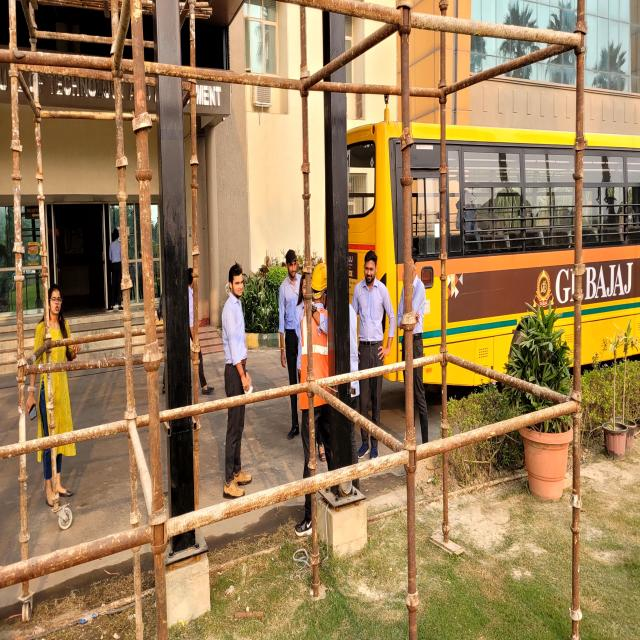safe: (301, 265, 330, 531)
unsafe: (33, 283, 74, 509), (221, 264, 255, 502), (357, 253, 389, 460), (280, 248, 300, 437), (107, 226, 124, 315)
